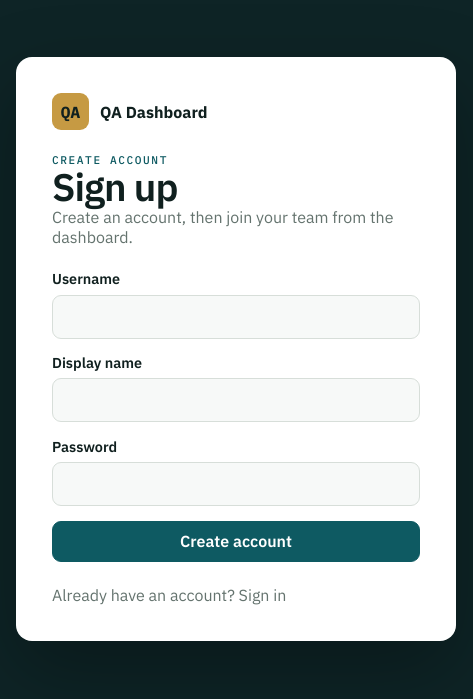
it: Auth forms › shows validation feedback from sign-up errors
Click the button "Create account": (236, 541) [52,521,420,562]
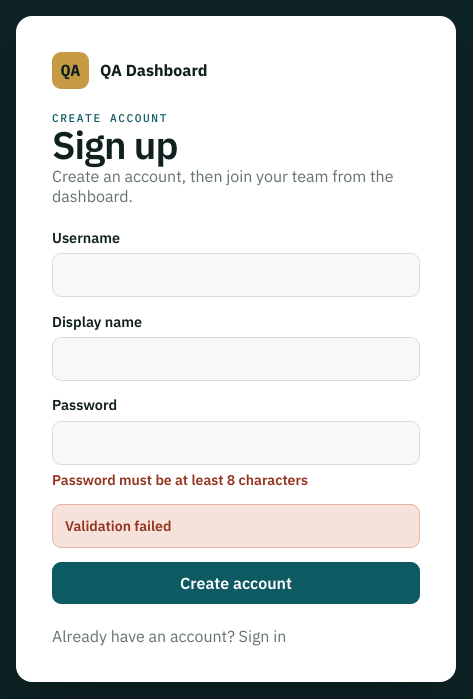
Check: the text "Validation failed" is shown, box [52,504,420,548]
Check: the text "Password must be at least 8 characters" is shown, box [52,471,308,489]
